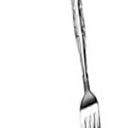Fork: (61, 2, 122, 128)
